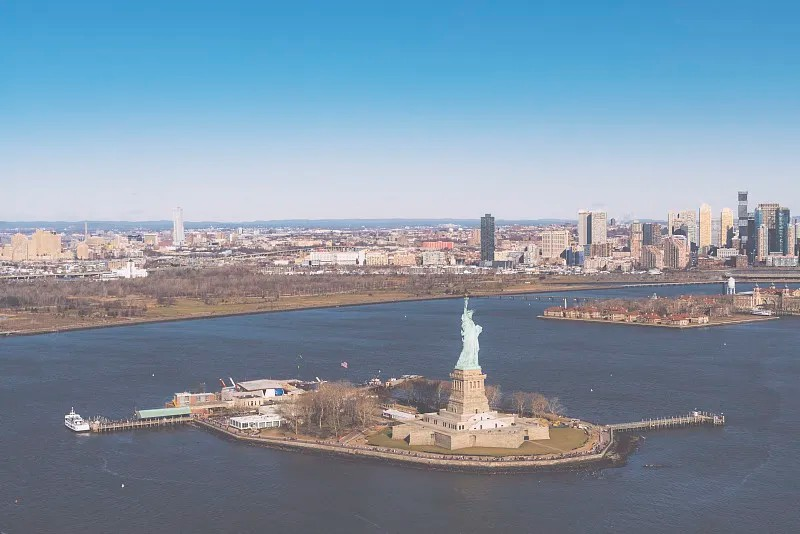SL: (447, 295, 490, 414)
